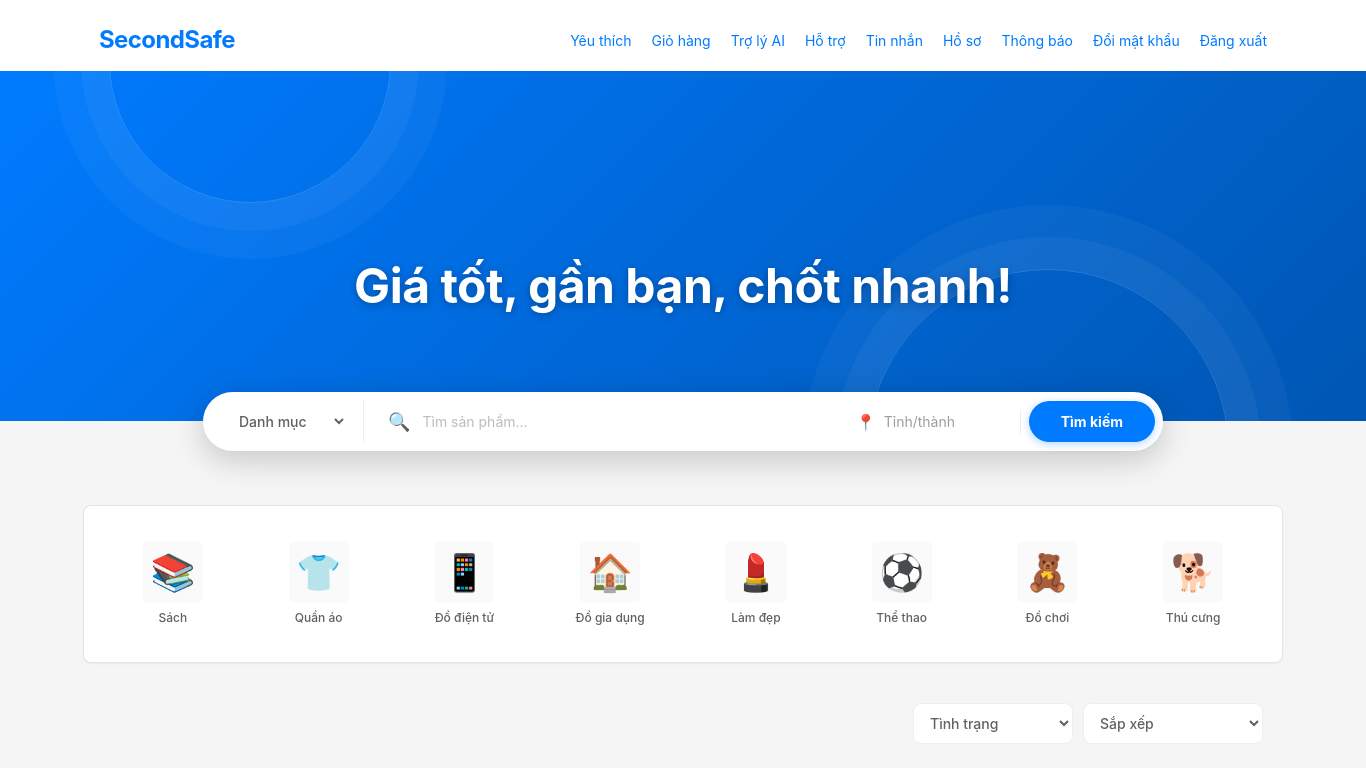
Test: an authenticated profile can open notifications and logout clears the shared session
The width and height of the screenshot is (1366, 768).
Click the button "Thông báo" at (1037, 40), box [1001,30,1073,50]
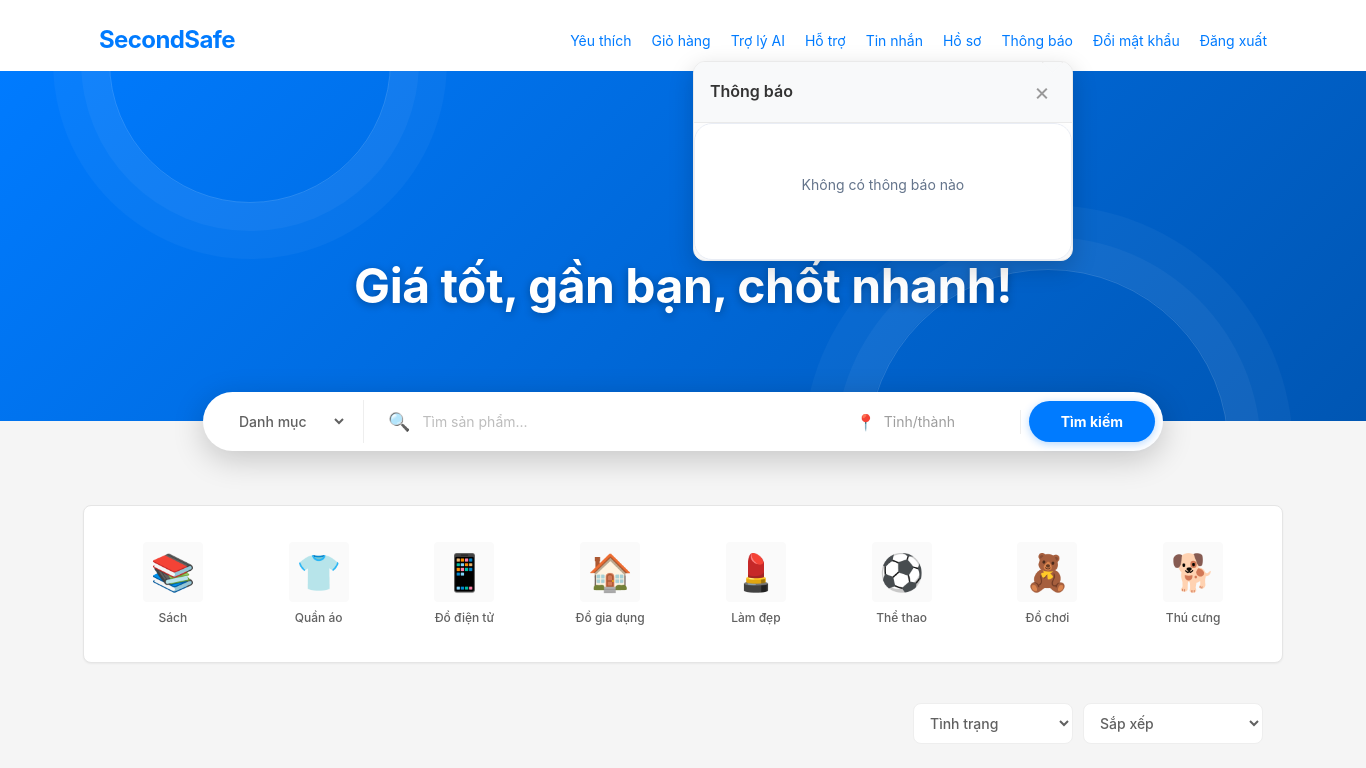
Check: the text "Không có thông báo nào" is shown, box [802,176,964,192]
Click the button "Đăng xuất" at (1233, 40), box [1200,30,1267,50]
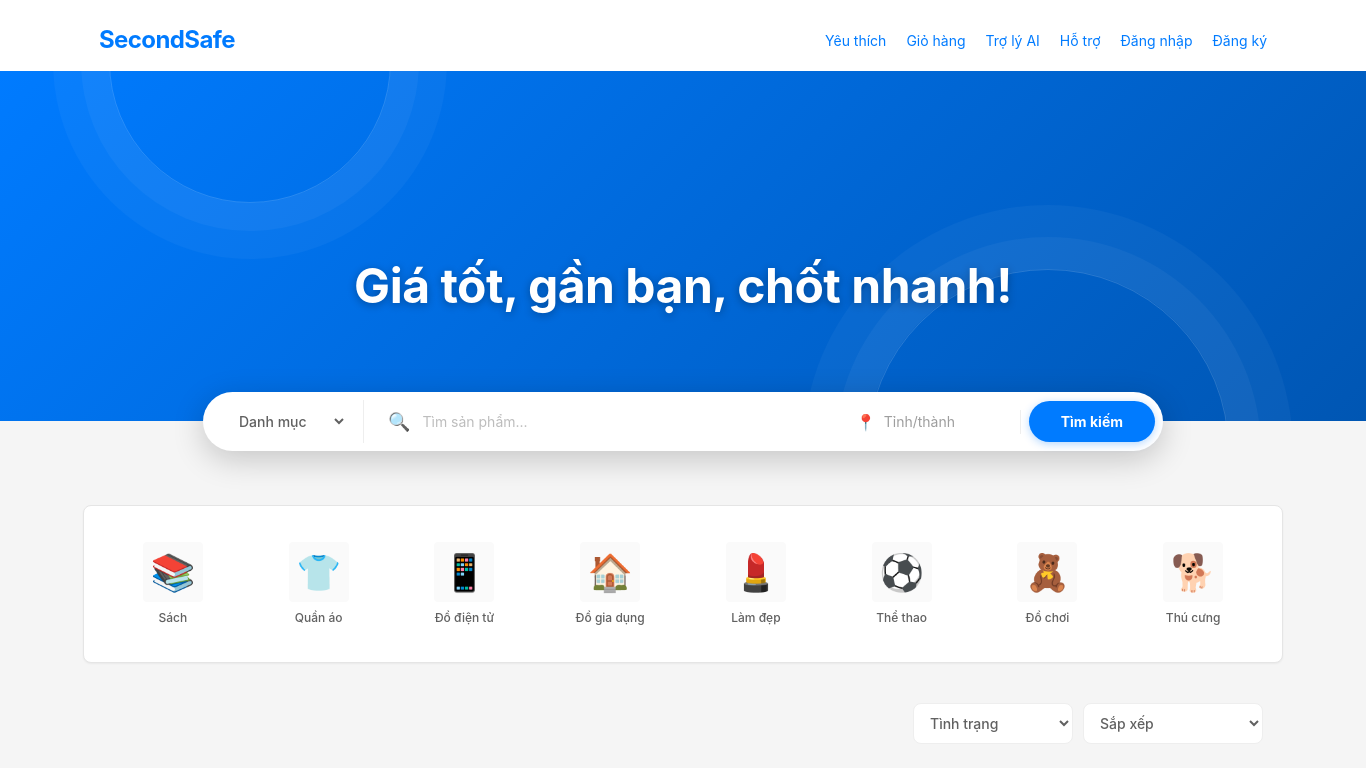
Check: the button "Thông báo" is gone
